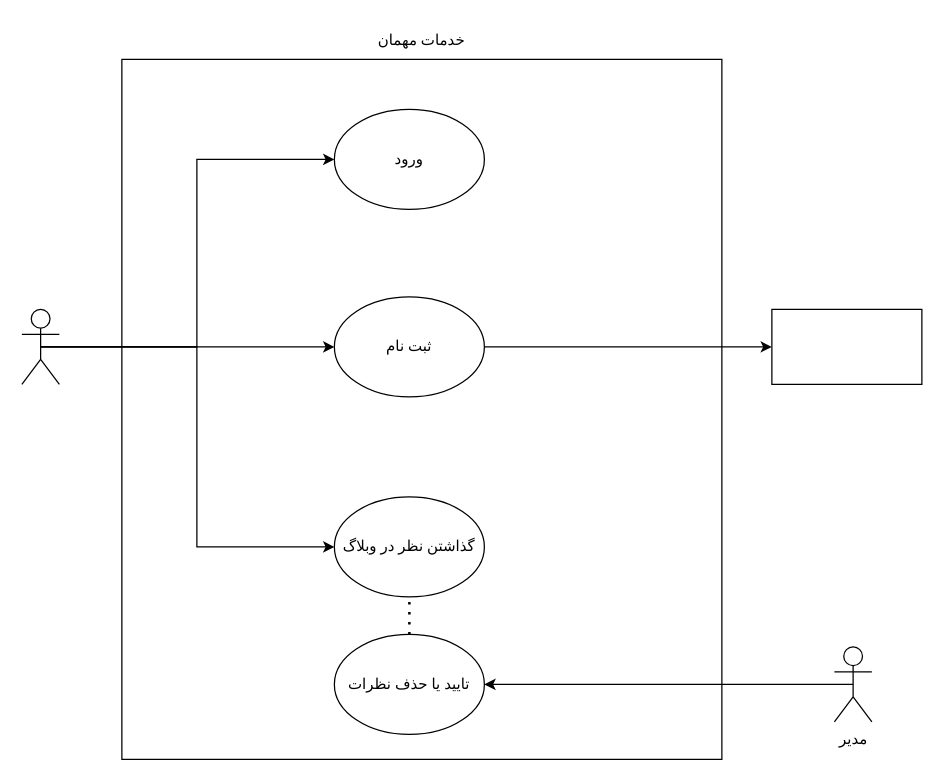
Some shapes in this 944 by 781 pixel diagram are drawn without their labels. Here are the shapes that lost their labels. From the top down, the centre of each, then its label:
(x=40, y=346): مهمان
(x=846, y=346): سرویس ایمیل
